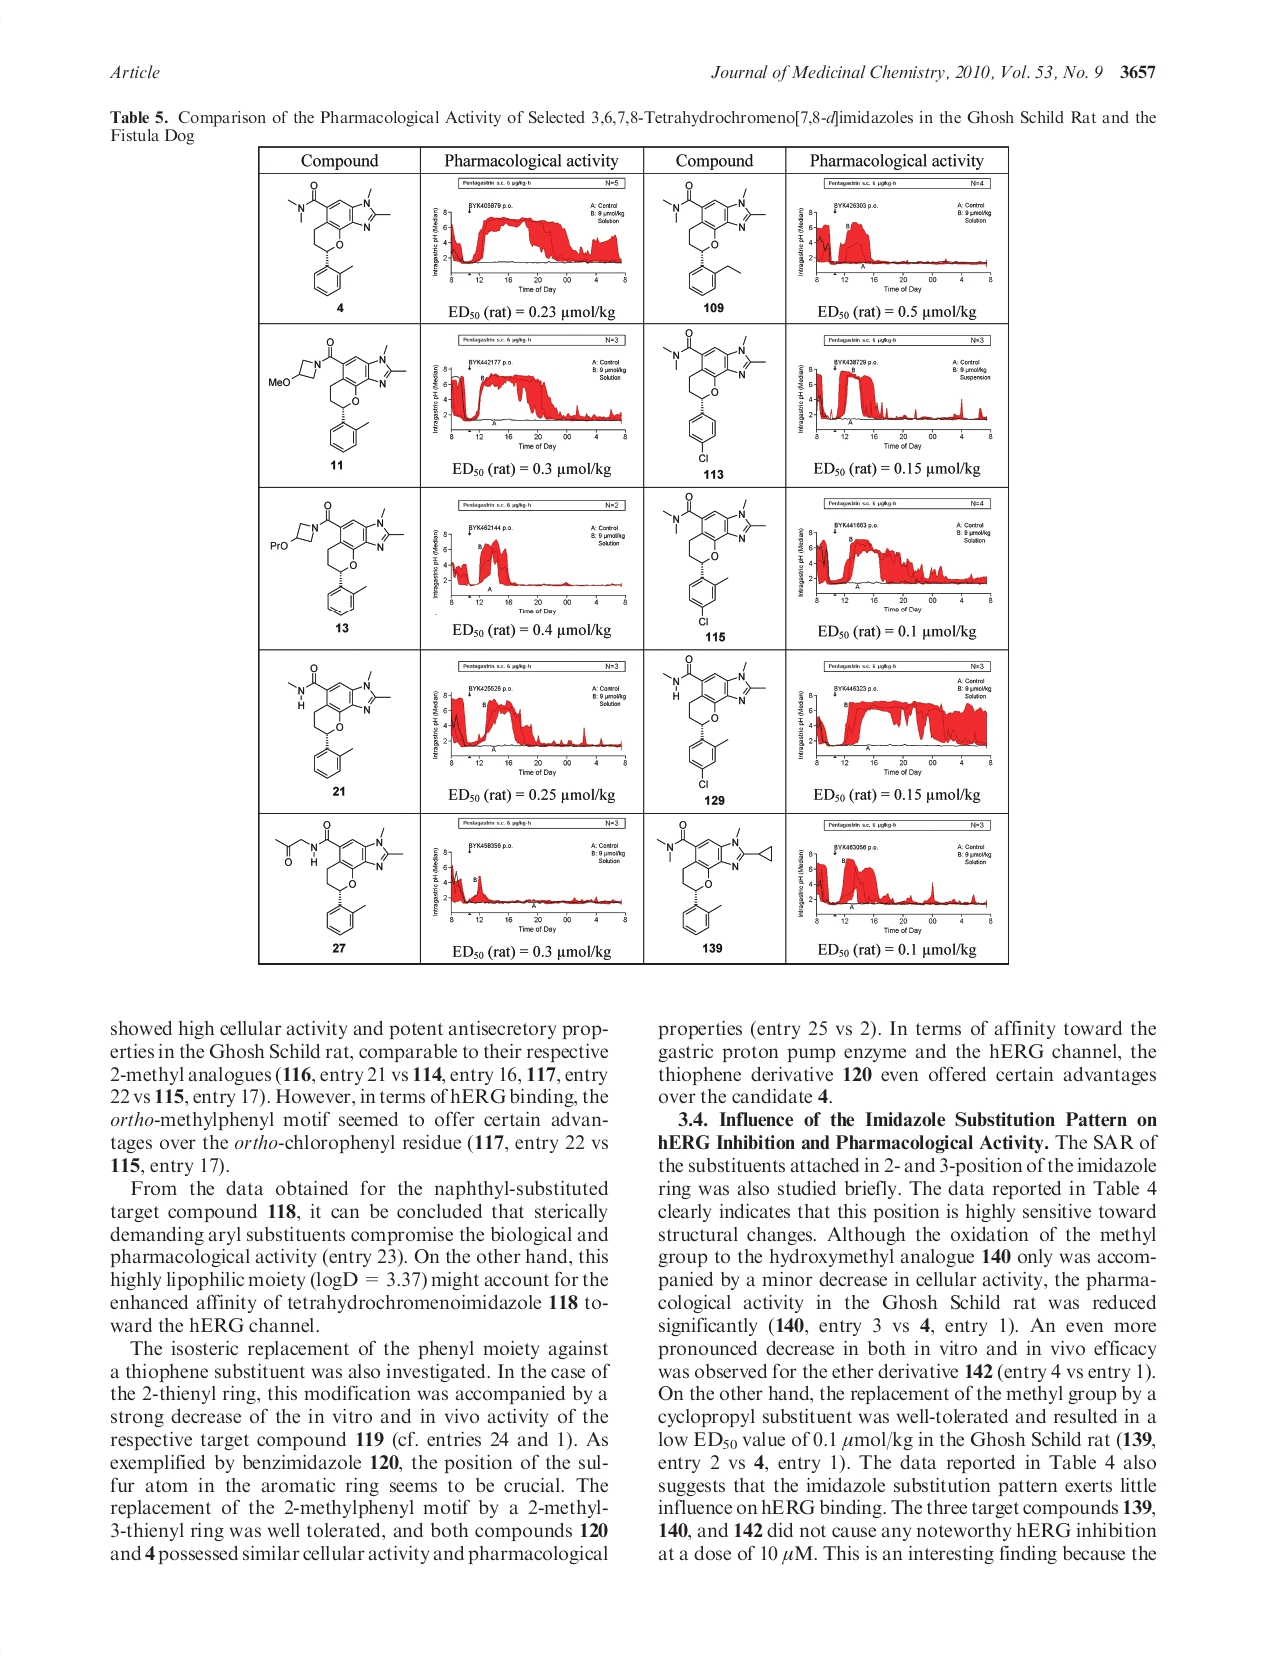exist_molecular: (266, 497, 411, 614), (266, 336, 410, 453), (656, 328, 767, 464), (660, 491, 771, 626), (654, 817, 778, 938), (275, 819, 404, 934), (664, 654, 767, 789), (285, 180, 394, 299), (660, 180, 769, 299), (287, 664, 394, 783)
